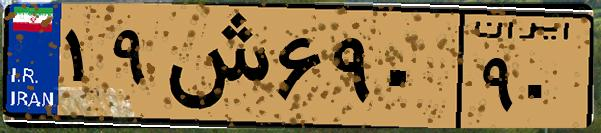0: (385, 28, 445, 110), (525, 38, 570, 115)
1: (57, 26, 110, 100)
6: (270, 28, 330, 110)
9: (330, 28, 385, 110), (475, 38, 525, 113), (110, 28, 158, 98)
ش: (158, 12, 270, 120)
